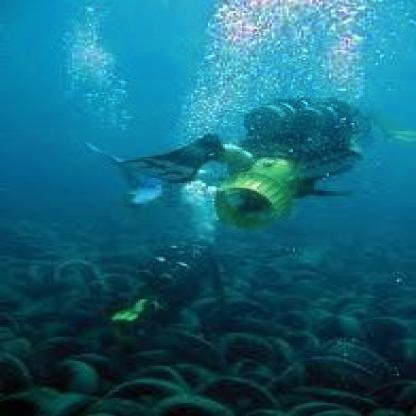tire: (25, 329, 187, 406), (257, 338, 384, 406), (202, 336, 290, 400), (45, 262, 142, 308)
